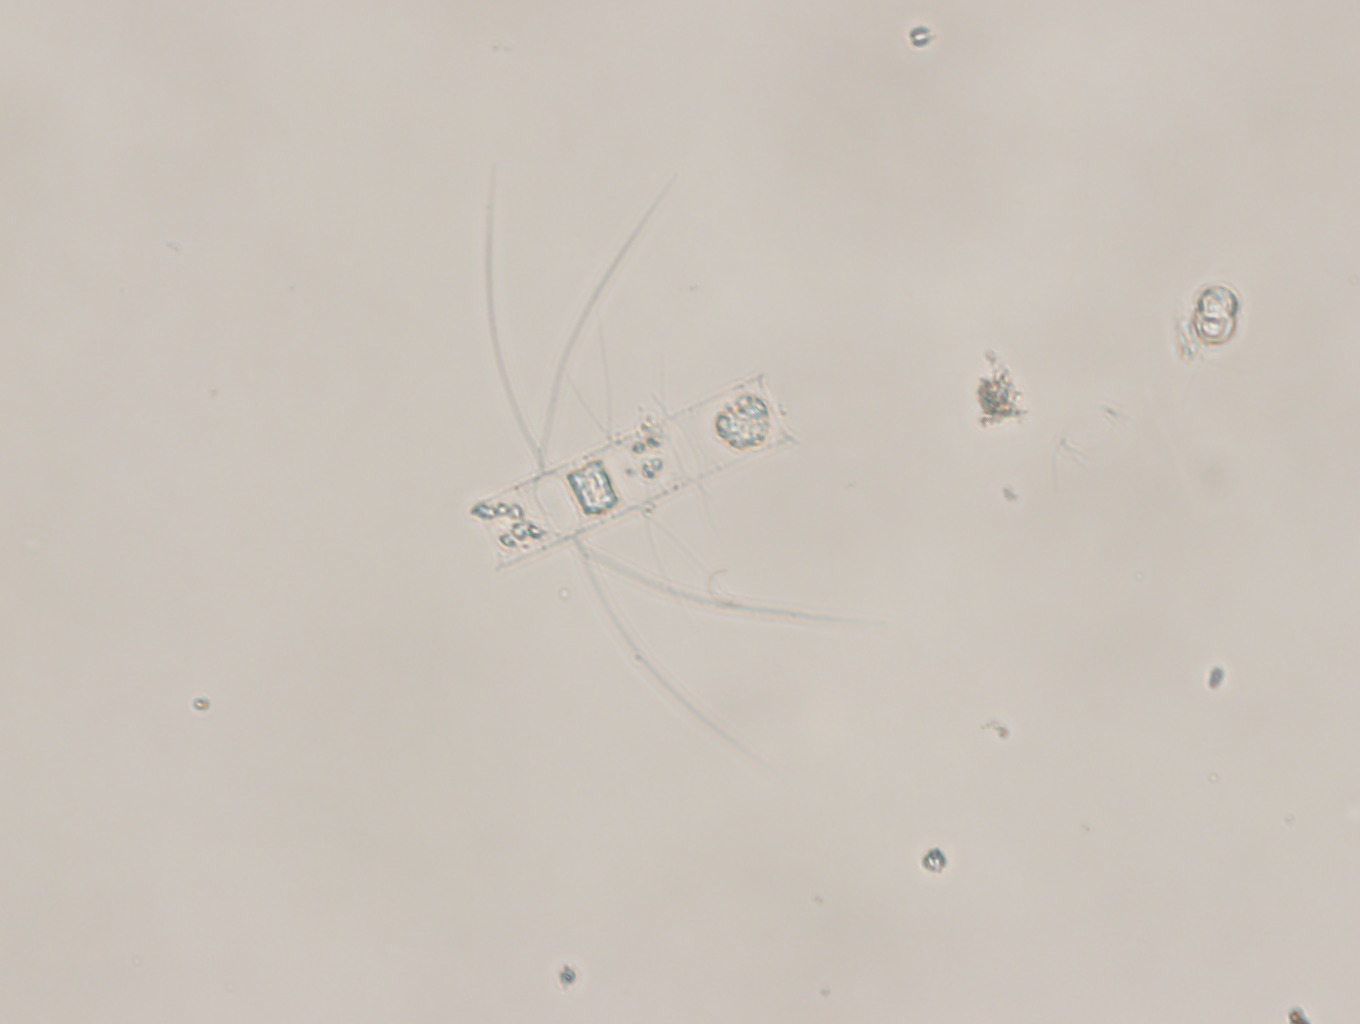chaetoceros: (450, 147, 891, 770)
